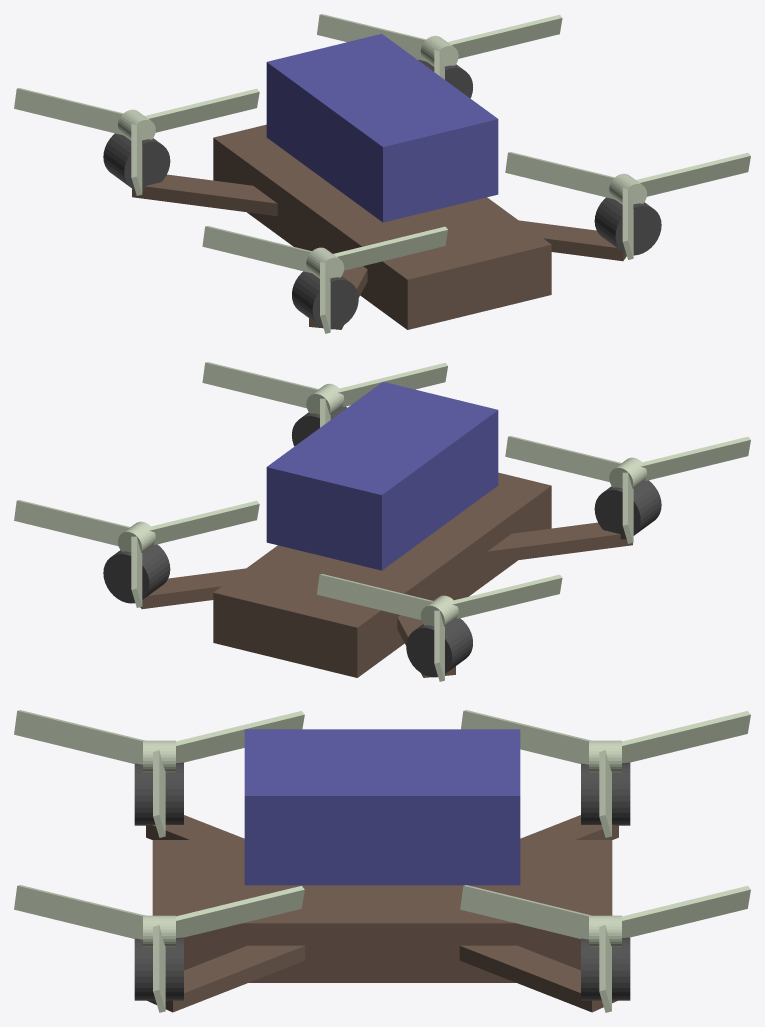
Rendered from Five33 Light Switch.glb.
3 views of the same model, one above another, from view 1: azimuth 30°, elevation 25°; view 2: azimuth 150°, elevation 25°; view 3: azimuth 270°, elevation 25° (orthographic). The views are drawn at different scales.
Parts seen in each view (by area): view 1: battery, frame_body, prop_3, prop_0, prop_2, prop_1, arm_3, motor_0, motor_2, motor_3, arm_0, motor_1 (+1 smaller); view 2: battery, frame_body, prop_2, prop_1, prop_3, prop_0, arm_2, motor_1, motor_3, motor_2, arm_1, motor_0; view 3: battery, frame_body, prop_0, prop_1, prop_2, prop_3, arm_1, arm_0, motor_0, motor_1, motor_2, motor_3 (+2 smaller).
Part boxes in pixels (<box>): battery: <box>266,34,498,222</box>; frame_body: <box>213,124,551,329</box>; prop_3: <box>14,88,259,195</box>; prop_0: <box>505,152,750,259</box>; prop_2: <box>202,226,447,333</box>; prop_1: <box>317,14,562,79</box>; arm_3: <box>132,174,277,216</box>; motor_0: <box>594,197,661,255</box>; motor_2: <box>292,271,358,329</box>; motor_3: <box>103,133,170,191</box>; arm_0: <box>519,220,626,261</box>; motor_1: <box>418,59,472,98</box>; battery: <box>266,382,498,570</box>; frame_body: <box>213,472,551,677</box>; prop_2: <box>505,436,750,543</box>; prop_1: <box>14,500,259,607</box>; prop_3: <box>317,574,562,681</box>; prop_0: <box>202,362,447,427</box>; arm_2: <box>487,522,632,564</box>; motor_1: <box>103,544,170,603</box>; motor_3: <box>406,618,472,677</box>; motor_2: <box>594,480,661,539</box>; arm_1: <box>140,568,245,609</box>; motor_0: <box>292,406,346,446</box>; battery: <box>244,729,520,885</box>; frame_body: <box>152,840,612,982</box>; prop_0: <box>14,885,304,1012</box>; prop_1: <box>460,885,750,1012</box>; prop_2: <box>14,710,304,837</box>; prop_3: <box>461,710,750,837</box>; arm_1: <box>459,945,617,1012</box>; arm_0: <box>147,945,305,1012</box>; motor_0: <box>134,937,183,1000</box>; motor_1: <box>581,937,630,1000</box>; motor_2: <box>134,762,183,825</box>; motor_3: <box>581,762,630,825</box>.
Size of the model in its own units: 0.2027 by 0.06 by 0.2243.
